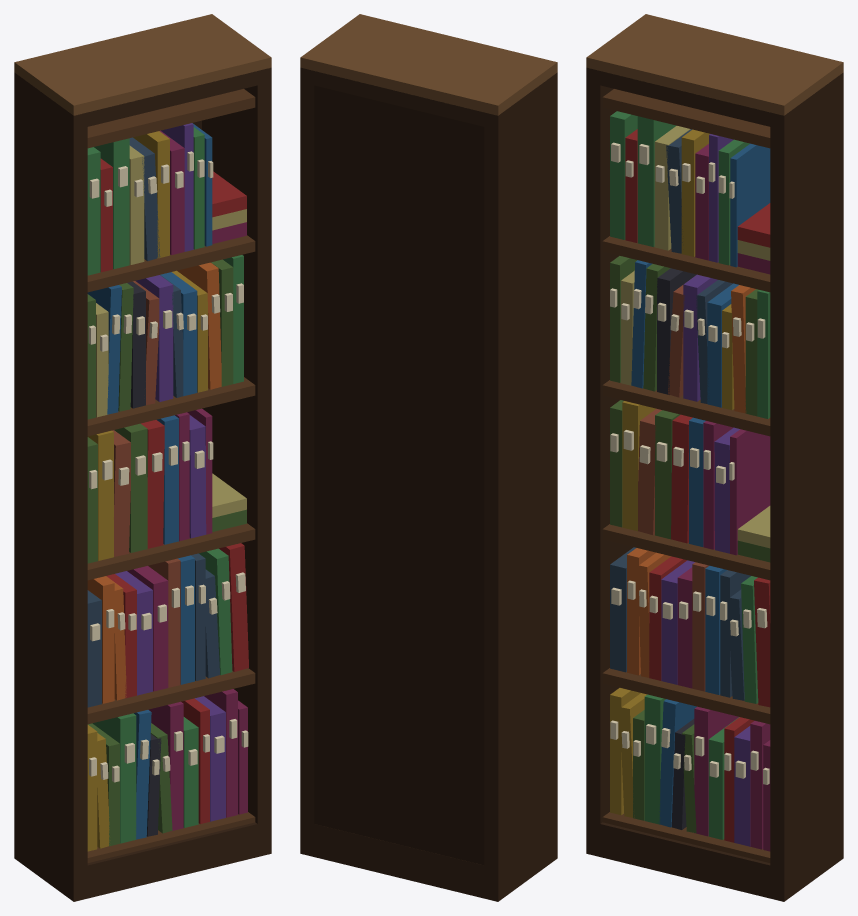
The model's file is bookcase_module.obj.
3 renders of one model, left to right at view 1: azimuth 30°, elevation 25°; view 2: azimuth 150°, elevation 25°; view 3: azimuth 330°, elevation 25°, orthographic.
Visible parts, largest first — view 1: geometry_0, geometry_1, geometry_5, geometry_3, geometry_11, geometry_2, geometry_10, geometry_8, geometry_9, geometry_7, geometry_18, geometry_112 (+58 smaller); view 2: geometry_4, geometry_0, geometry_5, geometry_1, geometry_3, geometry_2; view 3: geometry_1, geometry_0, geometry_5, geometry_3, geometry_78, geometry_11, geometry_2, geometry_126, geometry_10, geometry_8, geometry_9, geometry_7 (+58 smaller).
Part boxes in pixels (box(x1,y1,x2,y2)): geometry_0: box(14, 72, 87, 901); geometry_1: box(202, 67, 271, 856); geometry_5: box(14, 14, 271, 115); geometry_3: box(14, 820, 271, 901); geometry_11: box(87, 89, 255, 148); geometry_2: box(14, 68, 271, 129); geometry_10: box(87, 235, 255, 292); geometry_8: box(87, 523, 255, 580); geometry_9: box(87, 377, 255, 436); geometry_7: box(87, 668, 255, 724); geometry_18: box(92, 713, 136, 843); geometry_112: box(94, 138, 129, 269); geometry_4: box(314, 85, 484, 865); geometry_0: box(484, 72, 557, 901); geometry_5: box(300, 14, 557, 115); geometry_1: box(300, 67, 314, 856); geometry_3: box(300, 821, 557, 901); geometry_2: box(300, 68, 557, 129); geometry_1: box(770, 73, 843, 901); geometry_0: box(586, 67, 633, 856); geometry_5: box(586, 14, 843, 115); geometry_3: box(586, 821, 843, 901); geometry_78: box(730, 429, 770, 555); geometry_11: box(602, 89, 770, 148); geometry_2: box(586, 68, 843, 129); geometry_126: box(730, 143, 770, 267); geometry_10: box(602, 236, 770, 292); geometry_8: box(602, 524, 770, 580); geometry_9: box(602, 380, 770, 436); geometry_7: box(602, 668, 770, 724).
Size of the model in its own units: 0.5 by 1.92 by 0.26.
